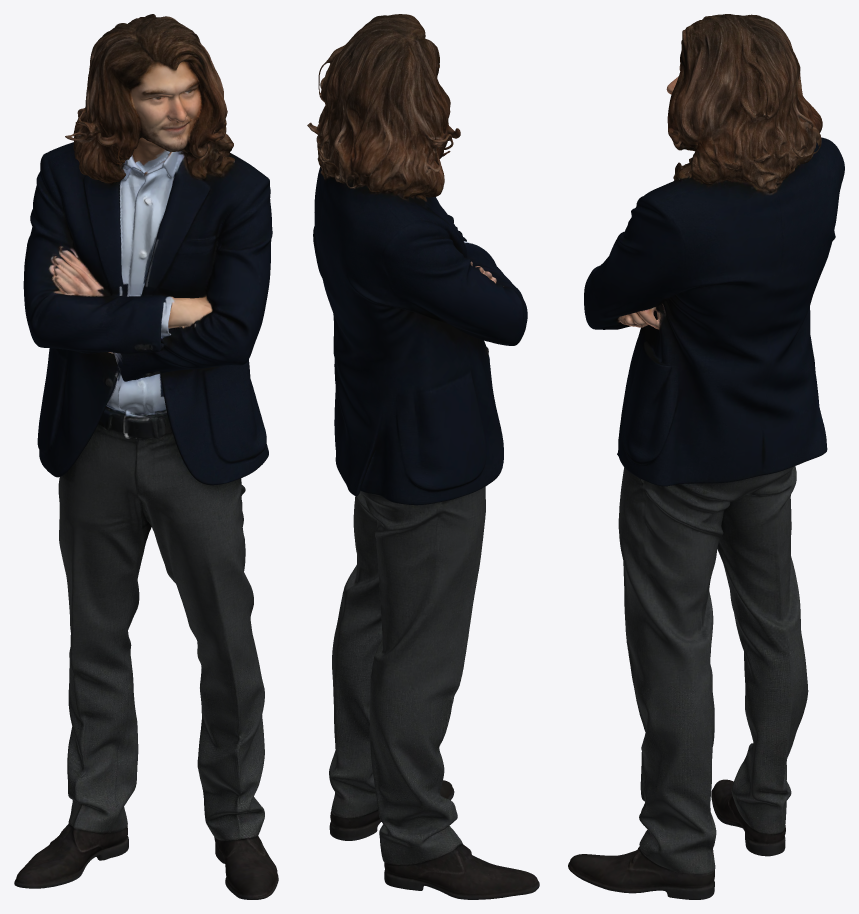
The model's file is portrait.glb.
3 renders of one model, left to right at view 1: azimuth 30°, elevation 25°; view 2: azimuth 150°, elevation 25°; view 3: azimuth 270°, elevation 25°, orthographic.
Size of the model in its own units: 0.5408 by 1.9 by 0.5626.
1 material, 1 textured.
